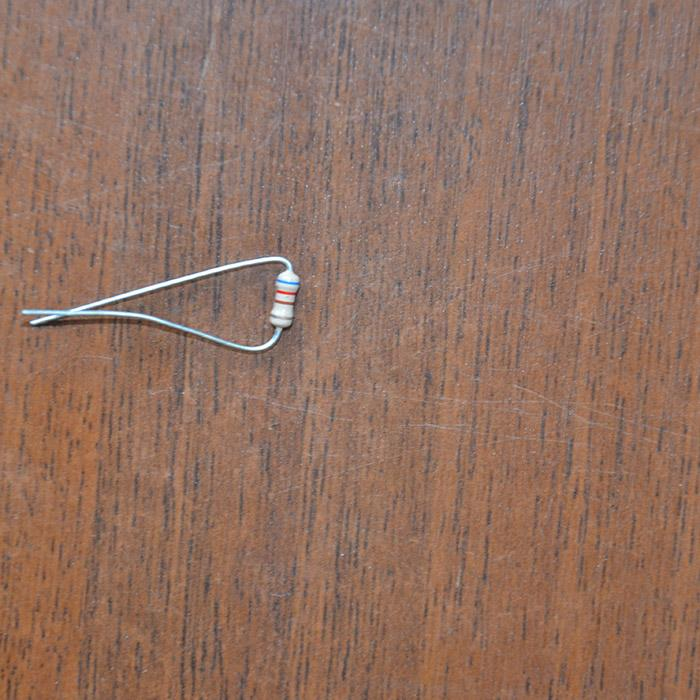resistor: (268, 270, 299, 328)
